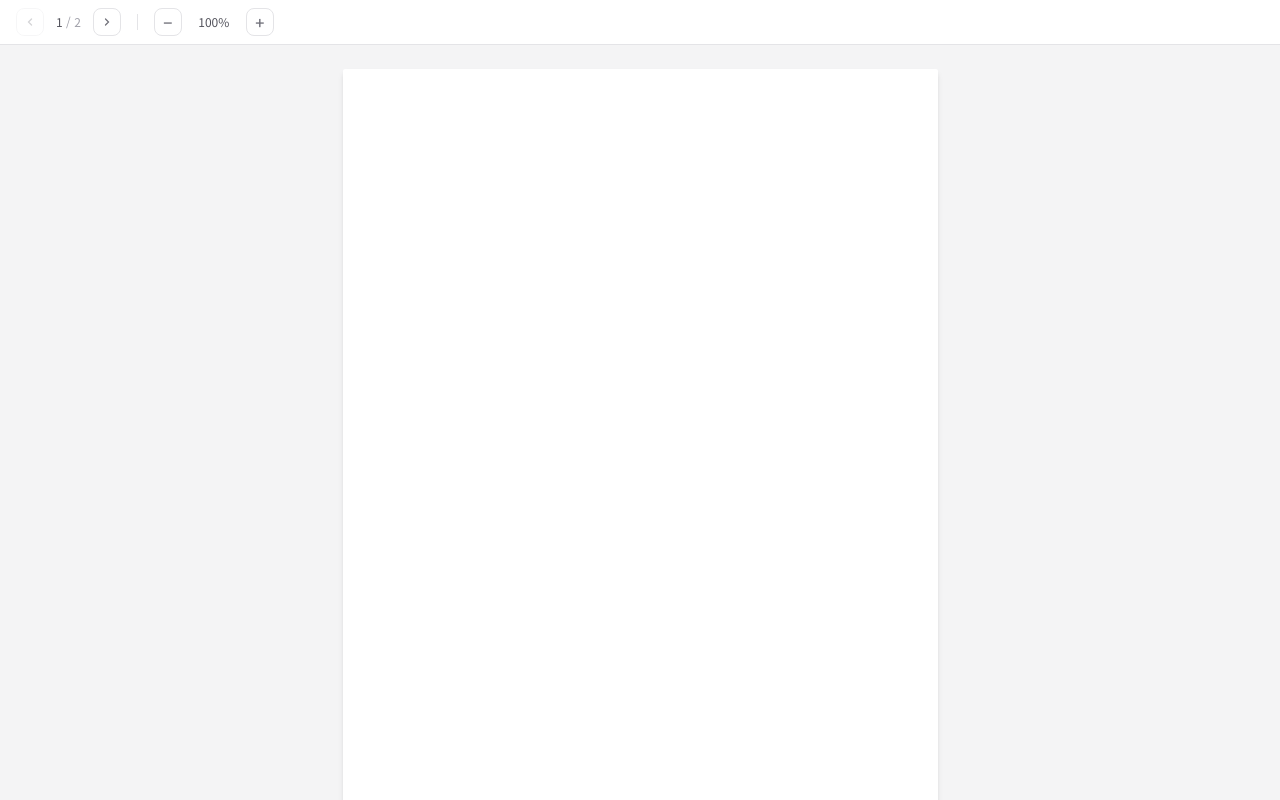
Test: PdfViewer — done state › 줌 아웃 버튼 클릭 시 75%로 감소한다
The width and height of the screenshot is (1280, 800).
Expected: the text "100%" is shown, [198, 13, 229, 30]
Click the button "−" at [168, 22], box [154, 8, 182, 36]
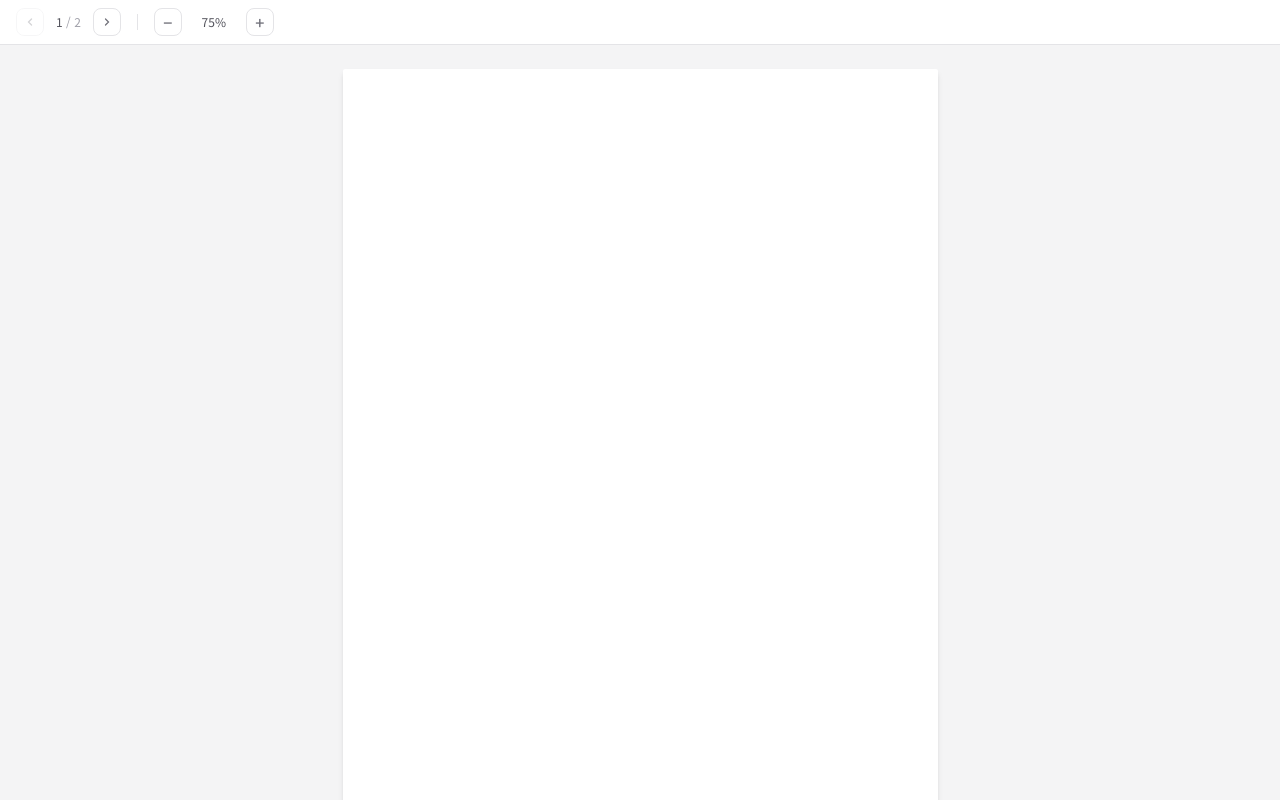
Result: the text "75%" is shown at [202, 13, 226, 30]
